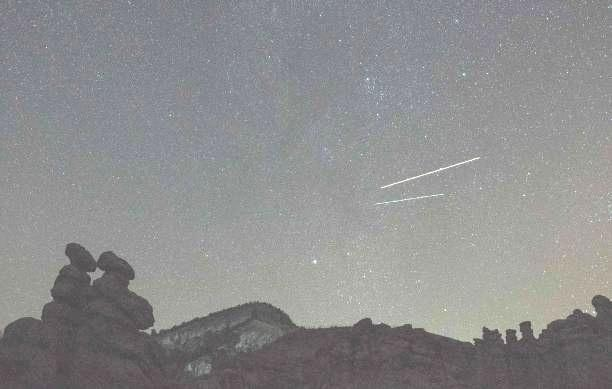meteorite: (384, 154, 484, 175), (371, 194, 456, 217)
